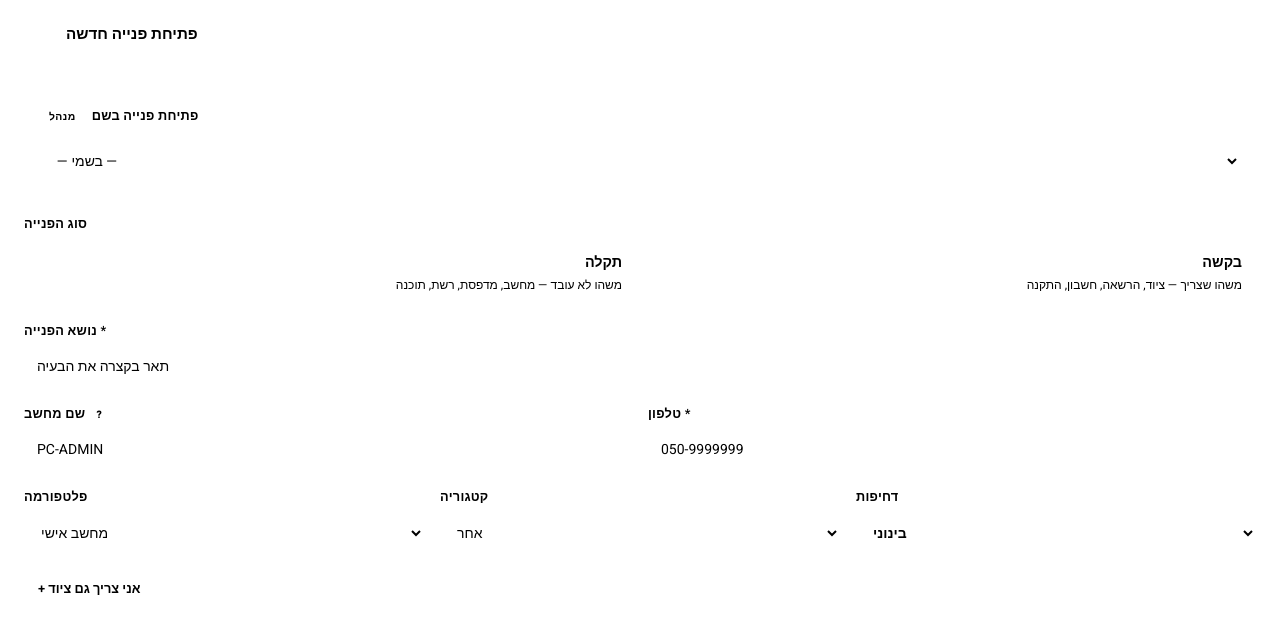
Test: TicketForm › open in someone else's name (admin) › pre-fills phone and computer name from the picked user's profile
The image size is (1280, 625).
Select "דנה כהן — dana@cristalino.co.il" in the dropdown labelled "פתיחת פנייה בשם" at coordinates (640, 161), box [40,140,1240,183]
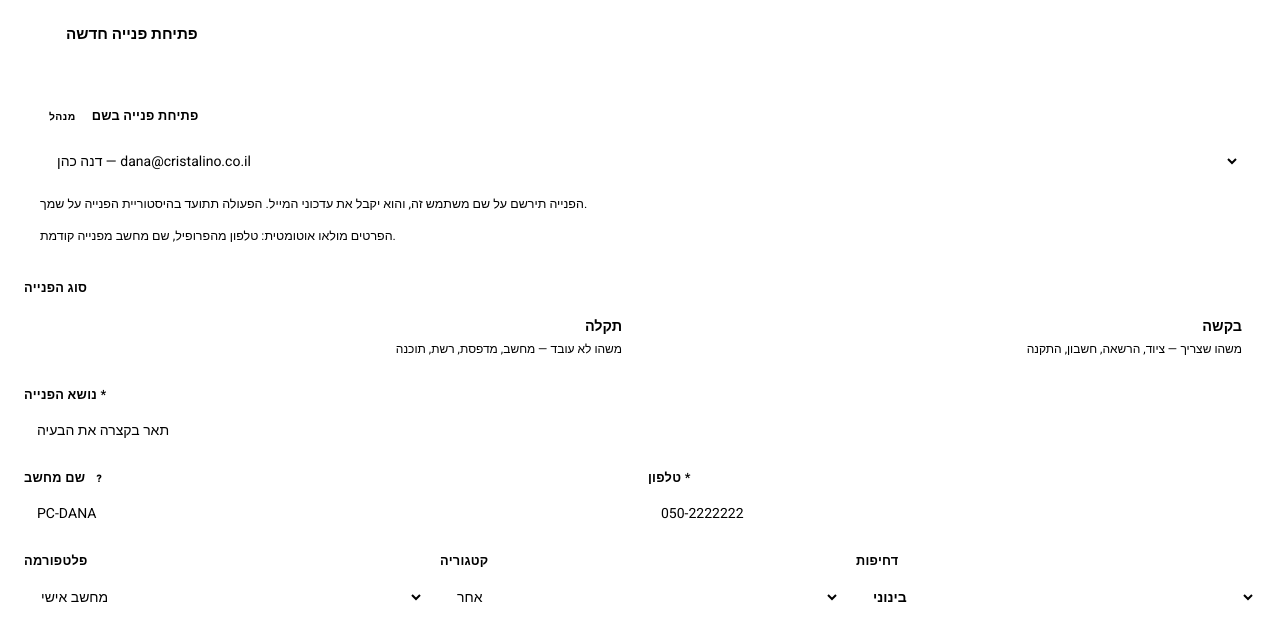
Check: the field with placeholder "050-0000000" holds "050-2222222", box [648,493,1256,534]
Check: the field with placeholder "לדוגמה: PC-ALON-01" holds "PC-DANA", box [24,493,632,534]
